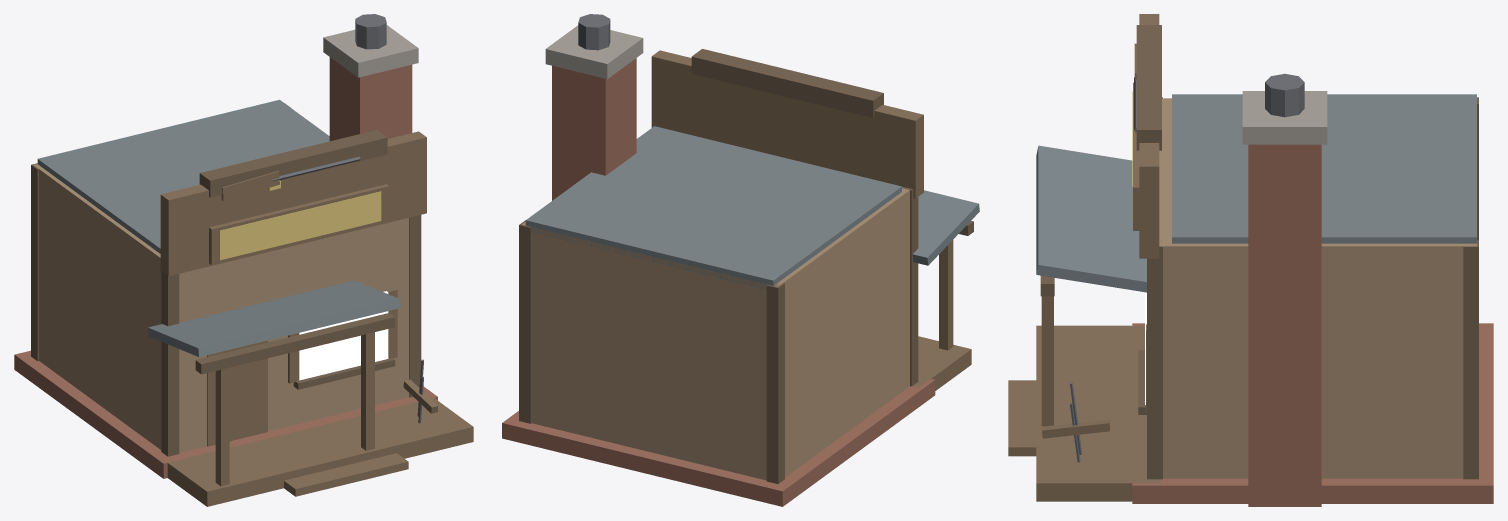
File: gunsmith.glb
The picture shows the model from 3 angles, left to right: view 1: azimuth 30°, elevation 25°; view 2: azimuth 150°, elevation 25°; view 3: azimuth 270°, elevation 25°; orthographic projection. The views are drawn at different scales.
Visible parts, largest first — view 1: gunsmith; view 2: gunsmith; view 3: gunsmith.
Boxes of the visible parts, x1,y1,x2,y2 form: gunsmith: [14, 14, 473, 506]; gunsmith: [502, 14, 979, 506]; gunsmith: [1008, 14, 1493, 506].
Size of the model in its own units: 7.55 by 8.2 by 8.6.
